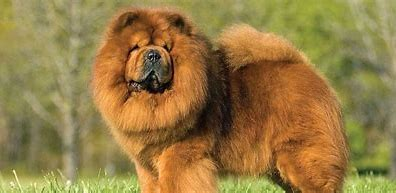dog: (76, 7, 367, 192)
